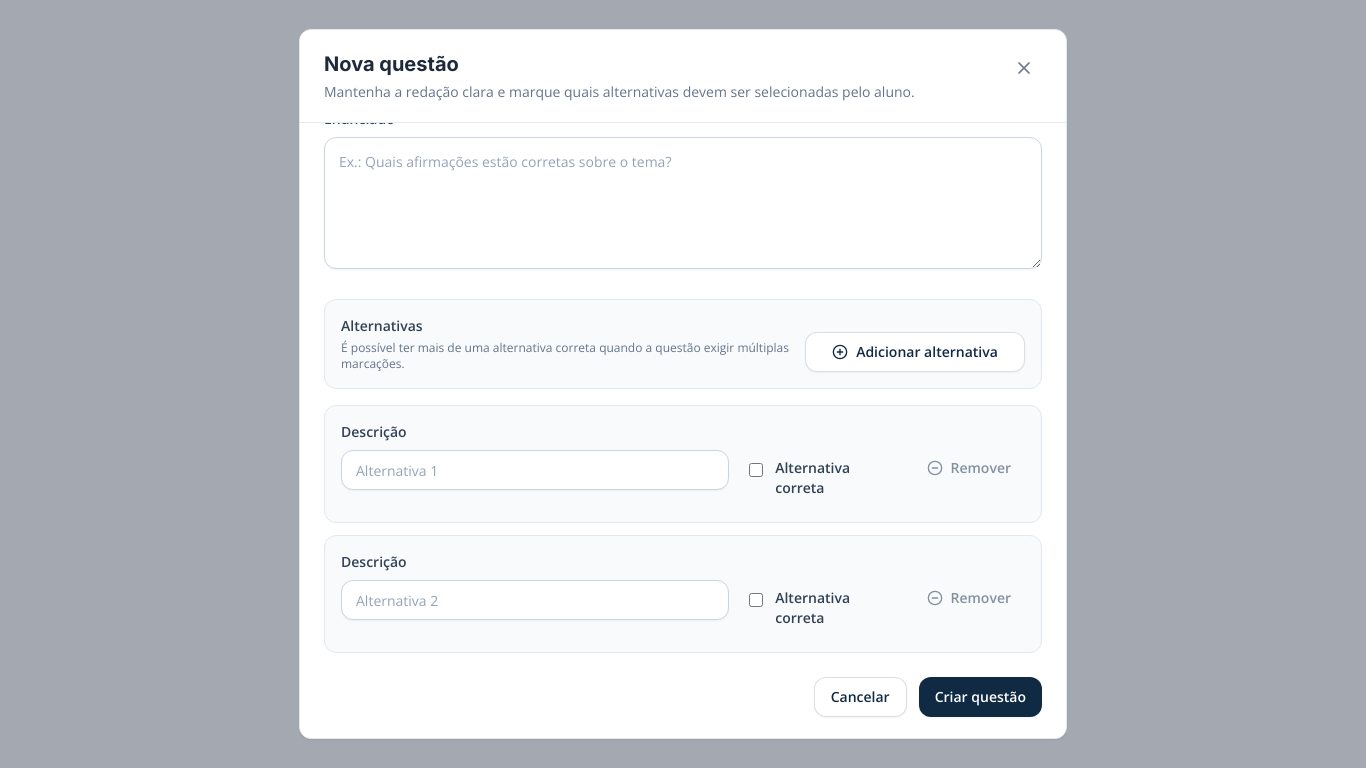
Test: QuestionFormModal › shows validation errors when the form is submitted empty
(page scrolled)
Click the button "Criar questão". click: (980, 697)
box: [919,677,1042,717]
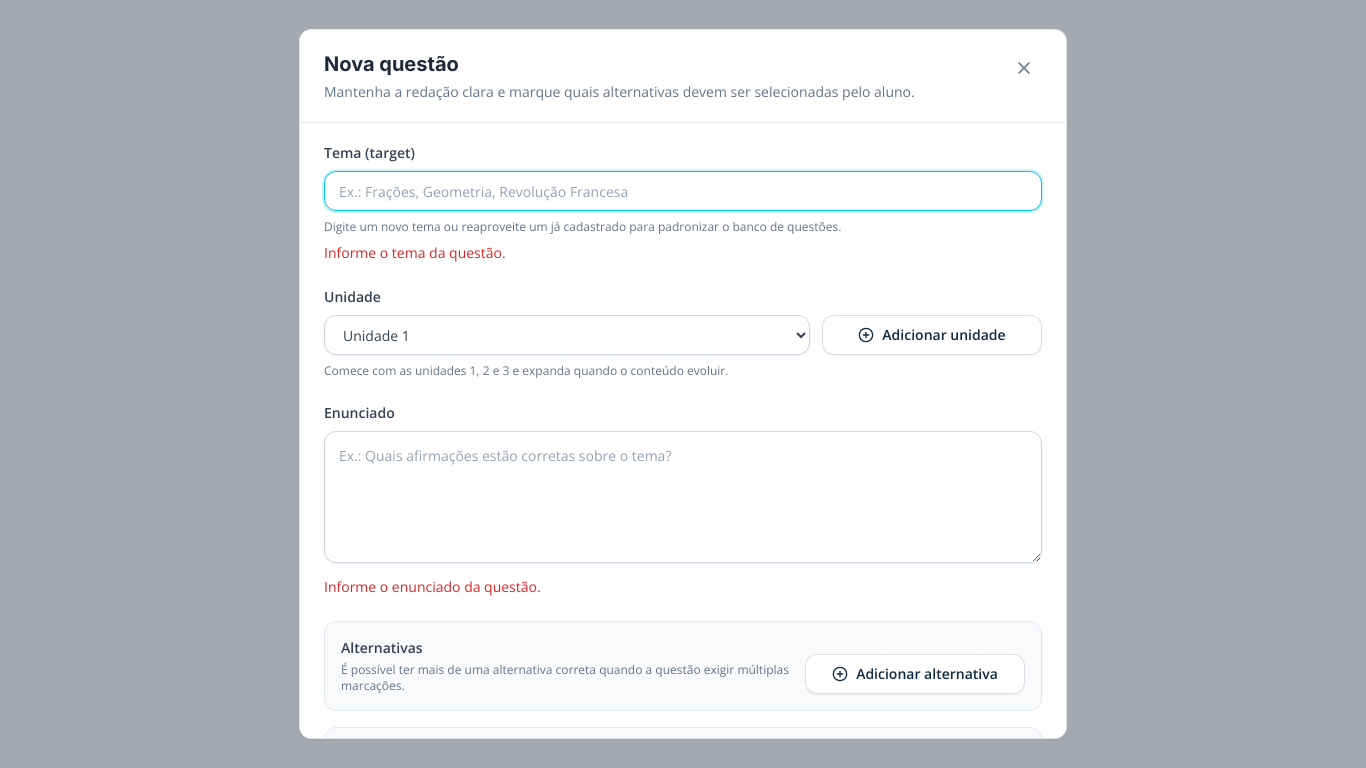
Expected: the text "Informe o tema da questão." is shown, [324,243,506,262]
Expected: the text "Informe o enunciado da questão." is shown, [324,577,541,596]
